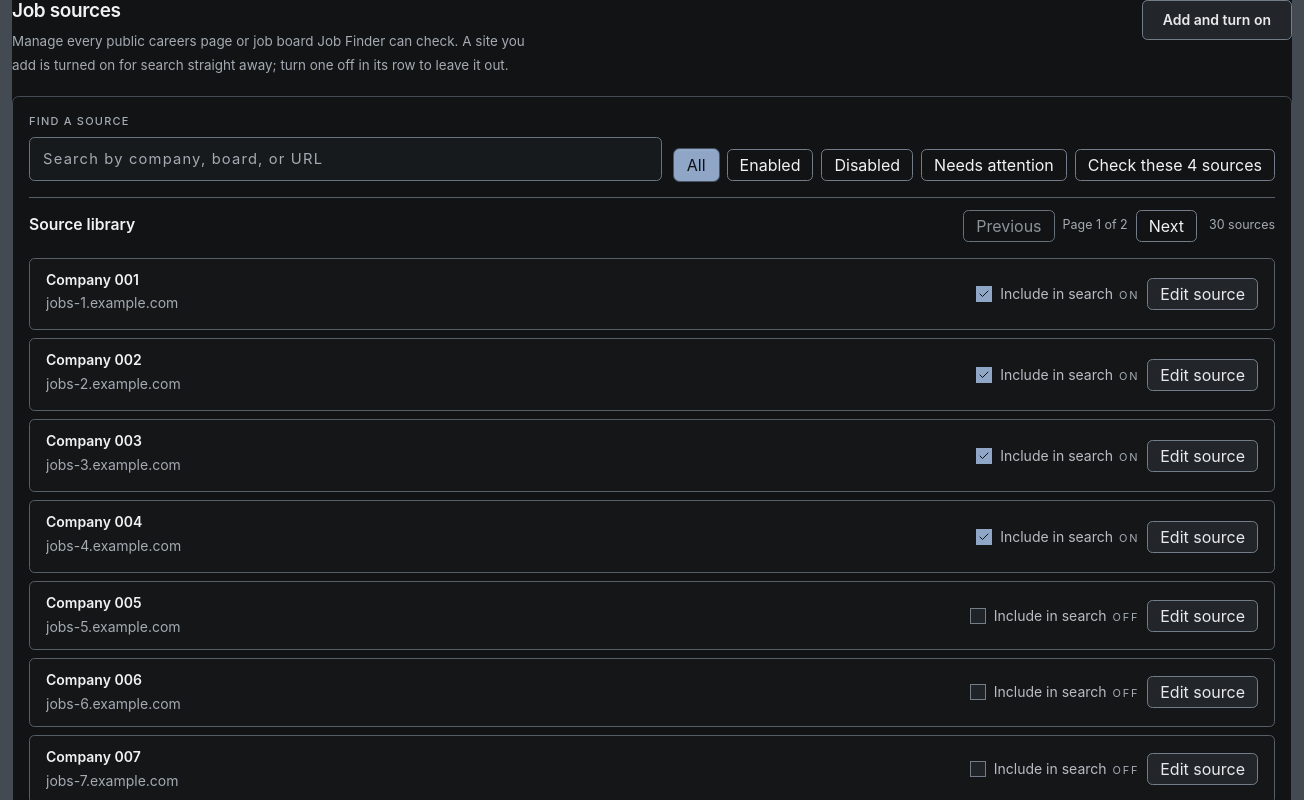
ProfileJobSourcesTab › supports quick enablement and mounts the full editor only for the opened source
The width and height of the screenshot is (1304, 800).
Expected: the text "Company 005" is shown, [46,594,142,611]
Click the checkbox named "Include Company 005 in searches" at (978,616), box [970,608,986,624]
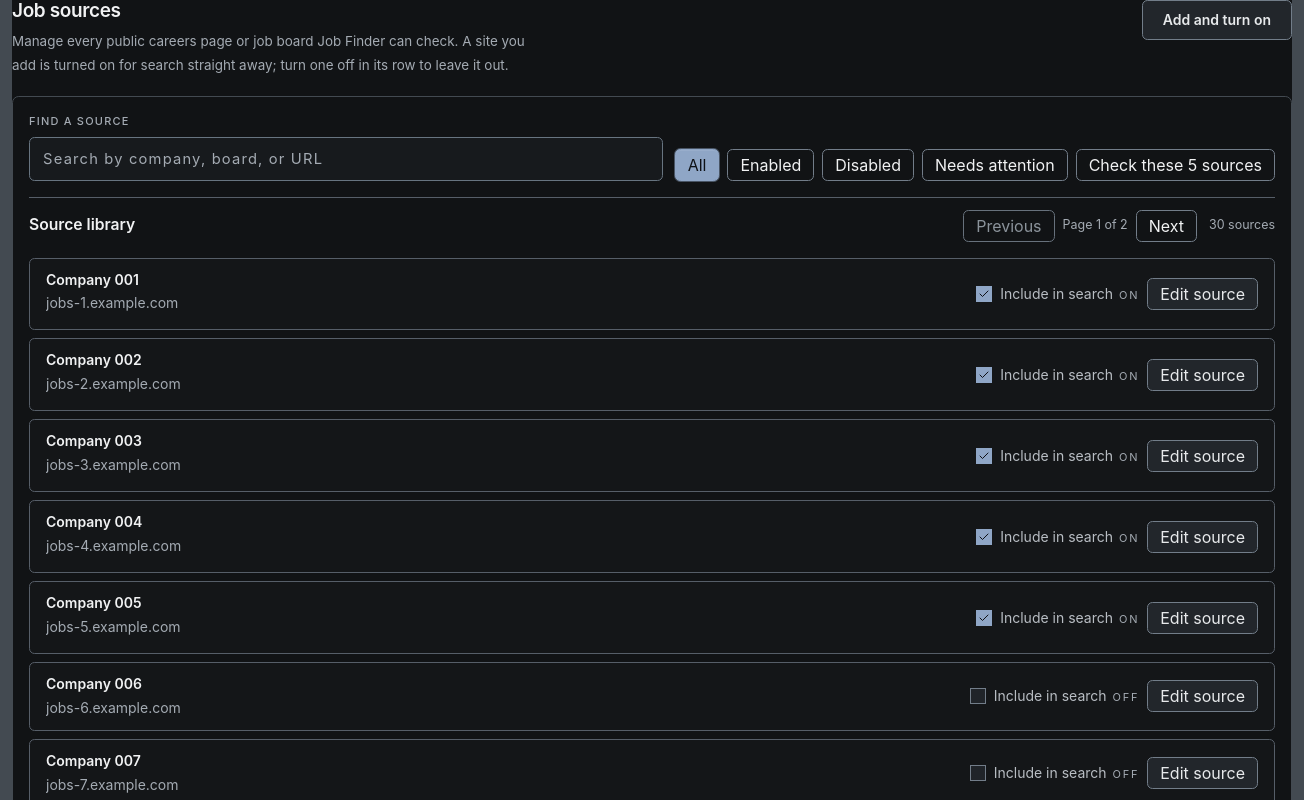
Now the checkbox named "Include Company 005 in searches" is checked, box [976,610,992,626]
Click the button with aria-label "Edit Company 005" at (1203,618), box [1147,602,1258,634]
(page scrolled)
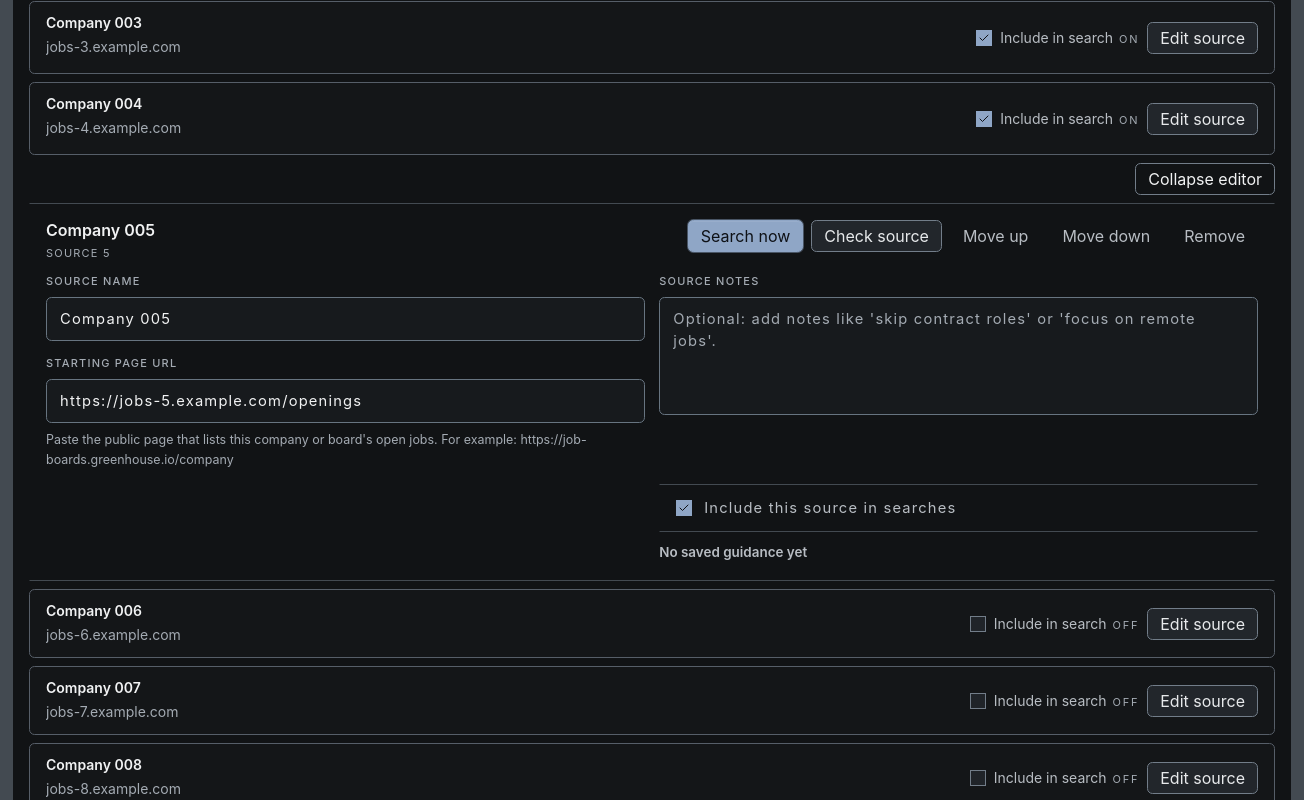
Now the field showing "Company 005" is shown, box [46,297,645,341]
Now the field showing "https://jobs-5.example.com/openings" is shown, box [46,379,645,423]
